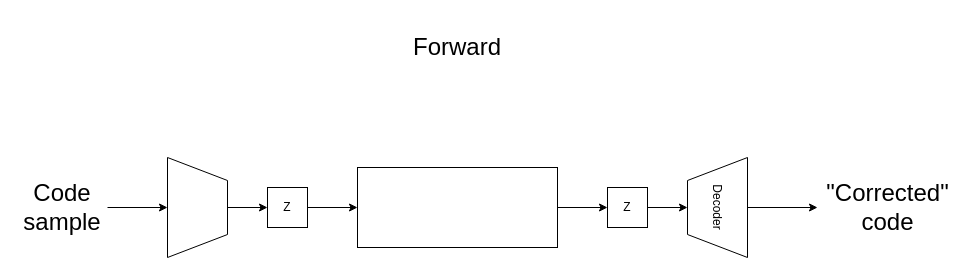
Image size: 974x275. Some labels were removed from this diagram. The shapes that lost their labels are listed below. From the top down, each one's box as (x1, y1, x2, y2) in pixels, then its label:
(166, 156, 228, 258): Enocder
(356, 166, 558, 248): Diffusion Model
